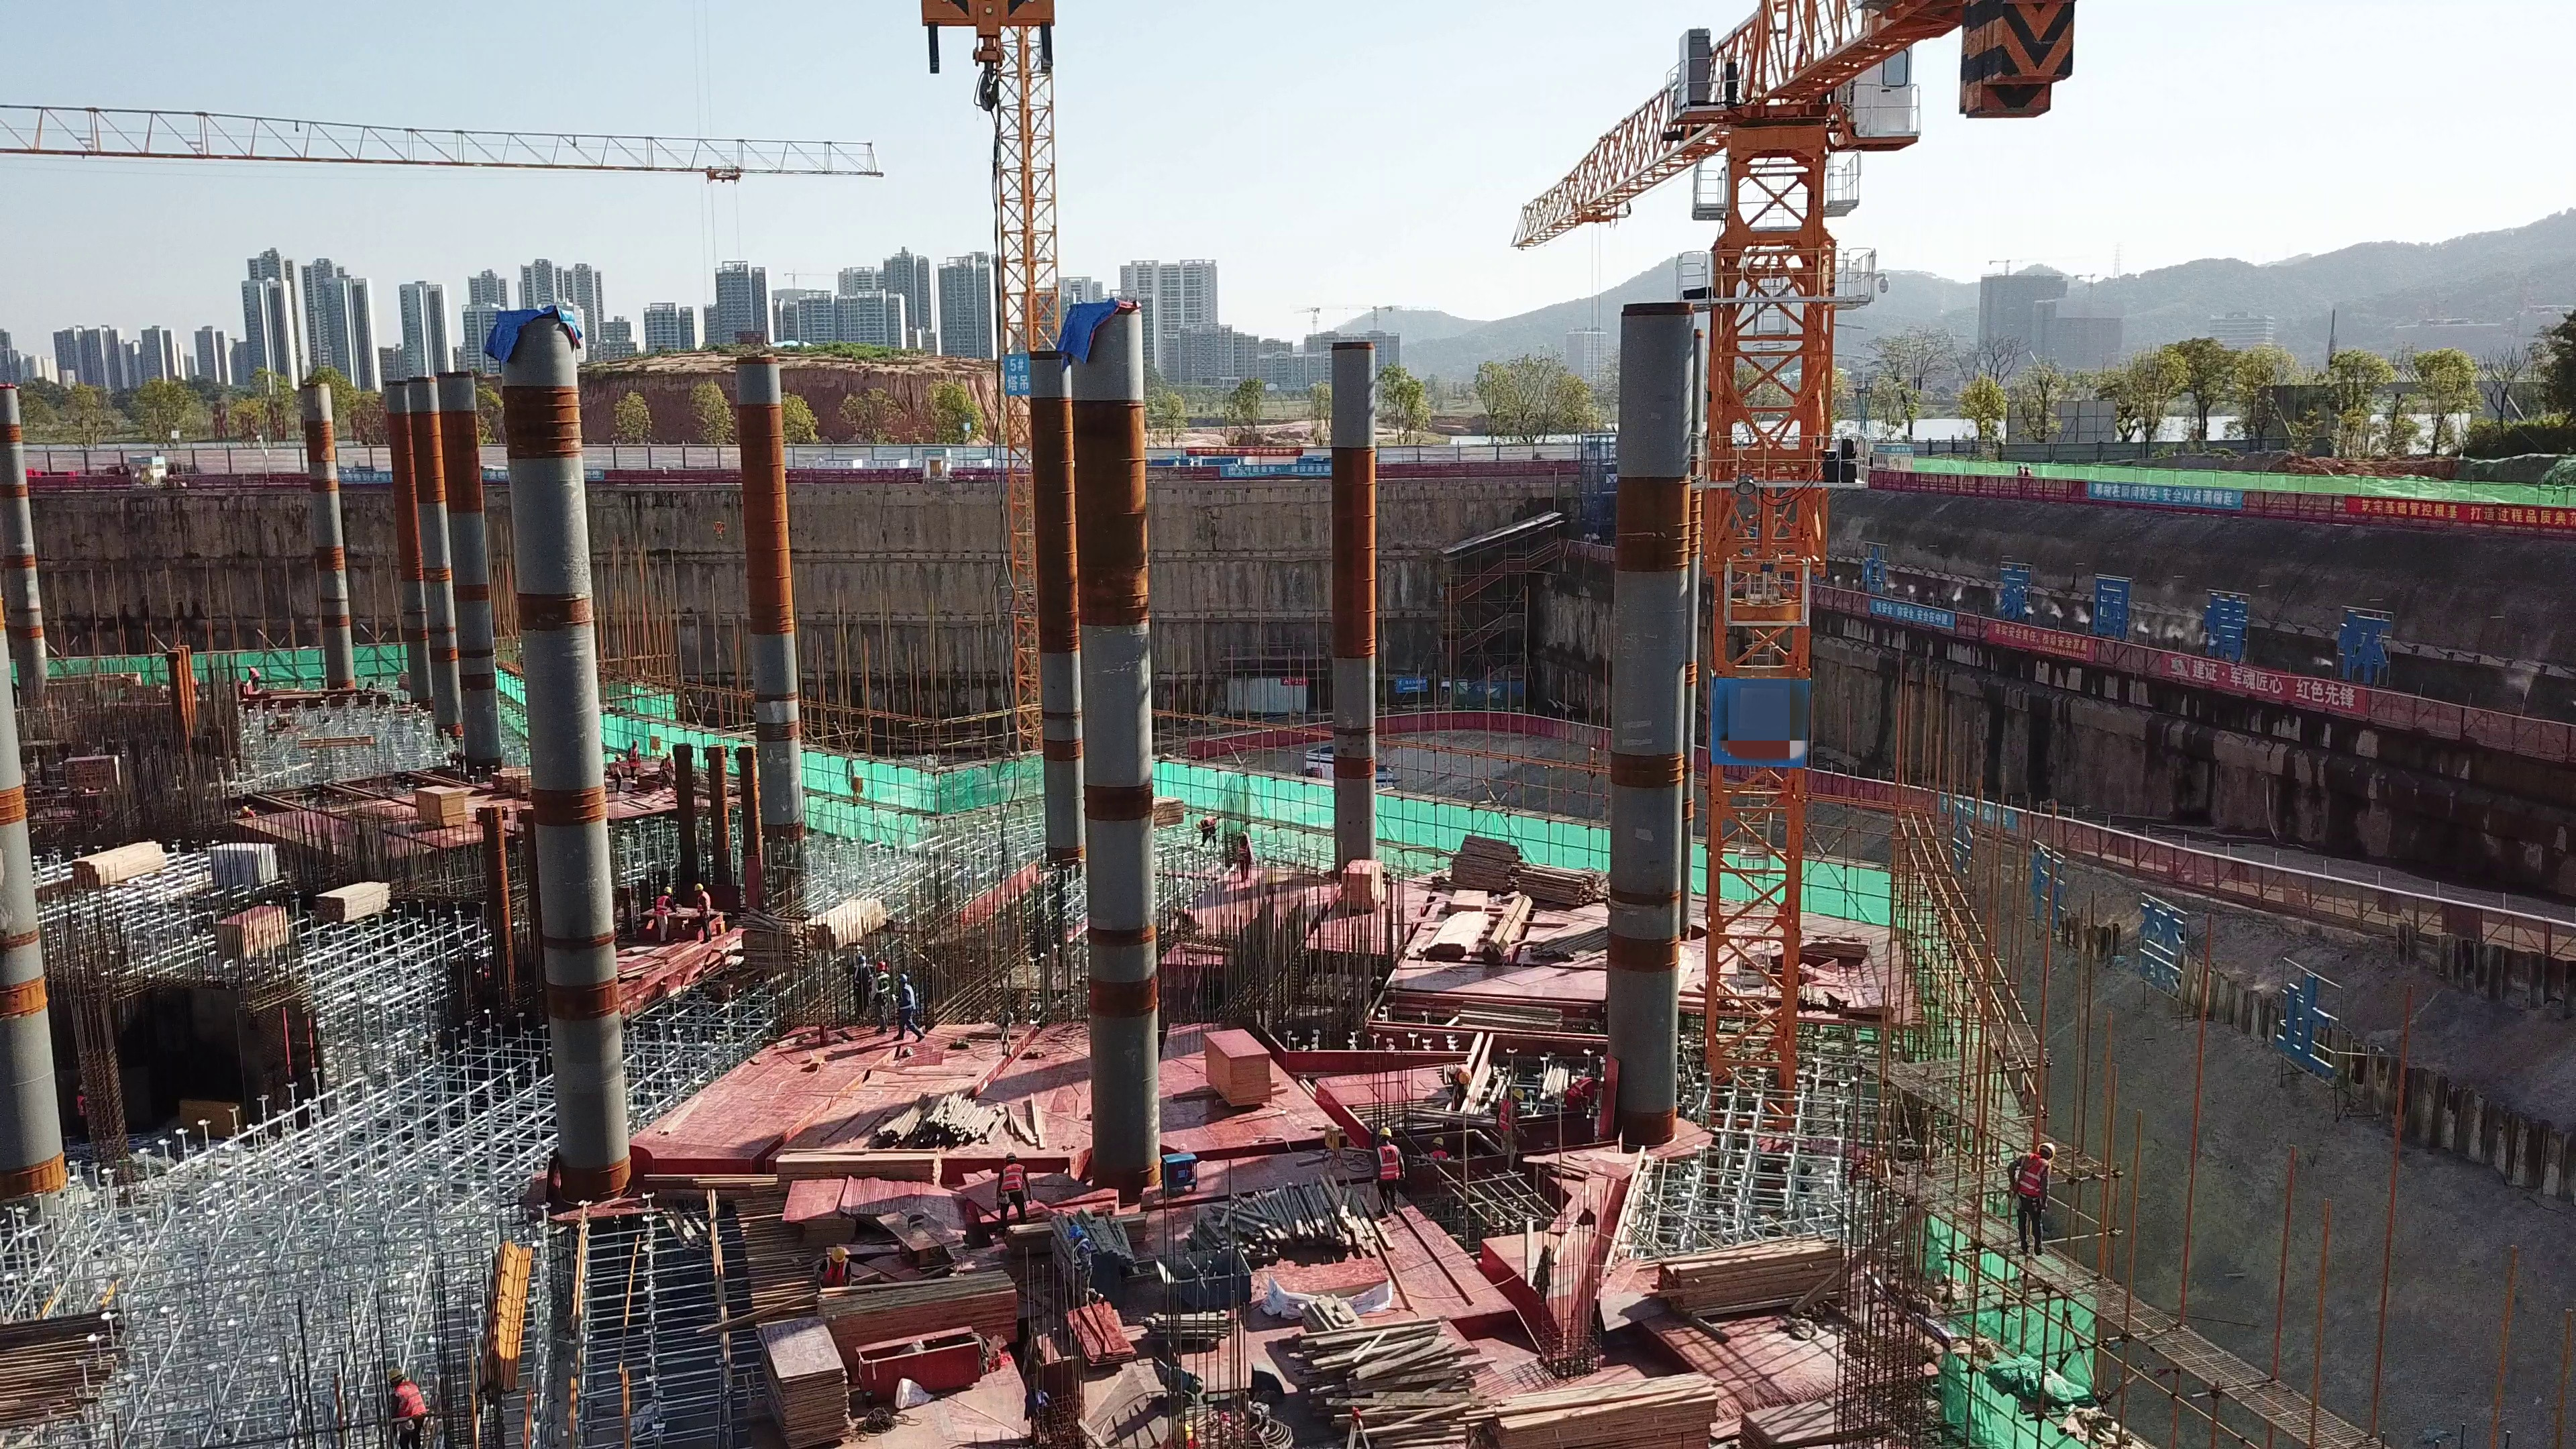helmet: (2037, 1139, 2058, 1160), (1377, 1125, 1397, 1139), (832, 1248, 847, 1264), (385, 1369, 404, 1384), (1512, 1088, 1527, 1104), (1069, 1226, 1084, 1238), (895, 973, 910, 982), (1004, 1152, 1021, 1161), (1459, 1071, 1469, 1088), (692, 883, 707, 892), (1434, 1134, 1446, 1145), (238, 806, 249, 815), (873, 962, 886, 971), (660, 886, 672, 894), (663, 751, 674, 758), (612, 753, 623, 759), (857, 957, 869, 961), (629, 739, 638, 743)
person: (2006, 1139, 2059, 1255), (386, 1368, 429, 1449), (993, 1150, 1031, 1230), (1370, 1125, 1403, 1215), (1065, 1224, 1097, 1311), (894, 970, 927, 1049), (1495, 1086, 1523, 1177), (845, 955, 871, 1020), (1559, 1075, 1605, 1112), (869, 961, 890, 1038), (692, 879, 716, 943), (651, 884, 678, 944), (815, 1248, 853, 1287), (1191, 808, 1220, 851), (1234, 828, 1256, 883), (1444, 1065, 1472, 1104), (658, 749, 678, 793), (608, 753, 625, 796), (627, 739, 642, 780), (234, 804, 264, 826), (1424, 1134, 1447, 1160), (246, 662, 262, 693), (516, 649, 525, 669), (2014, 462, 2023, 474), (2024, 463, 2032, 478)
vest: (2021, 1153, 2044, 1201), (398, 1385, 427, 1421), (1379, 1144, 1403, 1181), (1564, 1077, 1597, 1102), (1069, 1240, 1092, 1271), (999, 1165, 1024, 1190), (1497, 1100, 1515, 1131), (898, 987, 919, 1016), (655, 895, 674, 920), (875, 976, 890, 1004), (826, 1261, 851, 1278), (854, 965, 870, 991), (696, 892, 712, 915), (631, 745, 643, 766), (610, 762, 623, 780), (661, 761, 673, 777), (1431, 1152, 1446, 1159)
